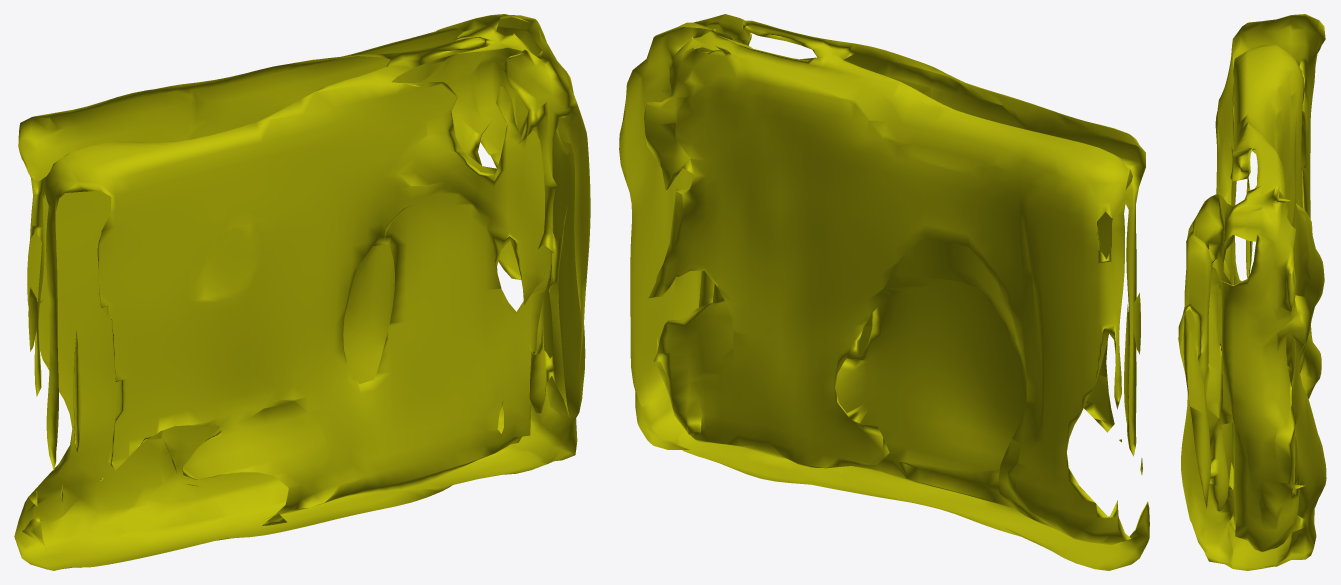
3 renders of one model, left to right at view 1: azimuth 30°, elevation 25°; view 2: azimuth 150°, elevation 25°; view 3: azimuth 270°, elevation 25°, orthographic. The views are drawn at different scales.
Visible parts, largest first — view 1: world; view 2: world; view 3: world.
Boxes of the visible parts, box(x1,y1,x2,y2) form: world: box(14, 14, 590, 570); world: box(619, 14, 1149, 570); world: box(1178, 14, 1326, 570).
Size of the model in its own units: 35.74 by 28.88 by 10.26.
